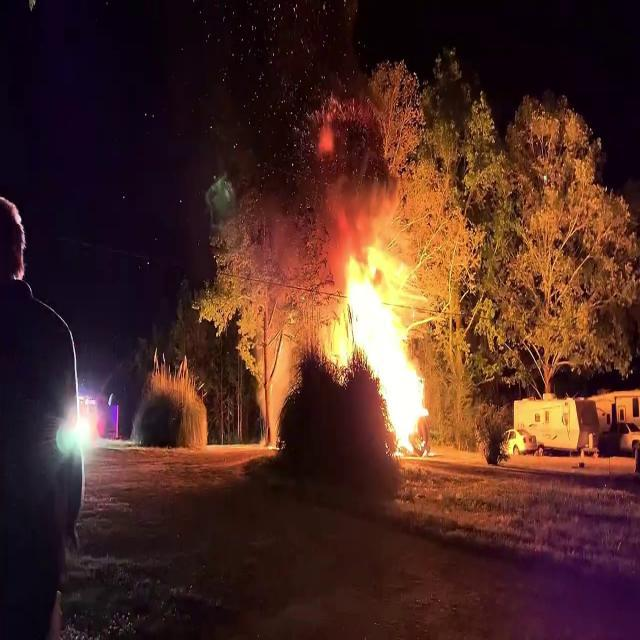Fire: (338, 241, 430, 456)
Smoke: (254, 56, 390, 260)
